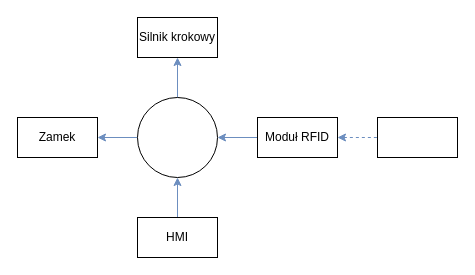
The diagram is 475 pixels wide and 275 high, and some of its shapes have lost their labels. Here are the shapes that lost their labels. From the top down, the centre of each, then its label:
At point 177,137: "Raspberry PI 3".
At point 417,137: "RFID tag".
